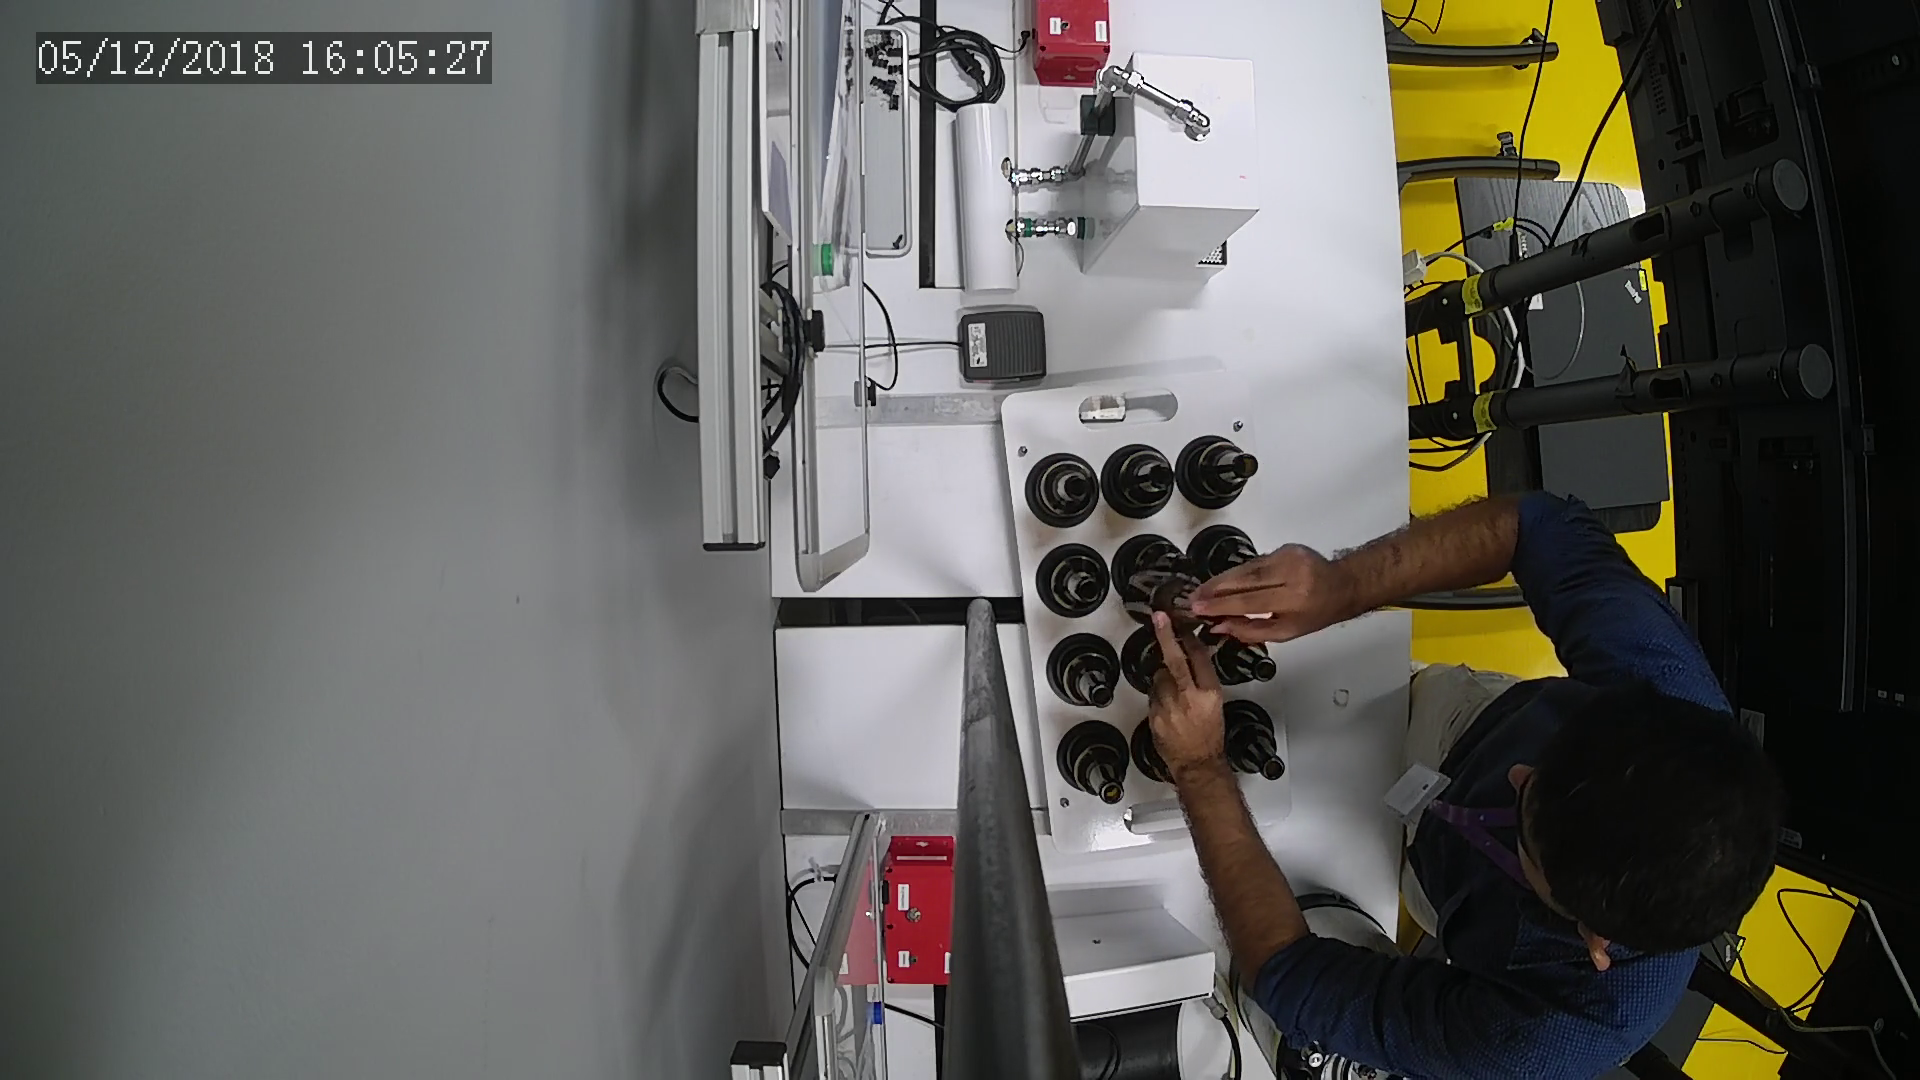filled_bottle: (1179, 426, 1266, 520), (1056, 715, 1137, 811), (1029, 545, 1114, 632), (1098, 443, 1179, 524), (1043, 630, 1124, 709), (1222, 702, 1288, 789), (1029, 454, 1102, 527), (1208, 636, 1283, 694), (1122, 531, 1193, 588), (1193, 526, 1261, 582)
trolley: (997, 363, 1304, 853)
